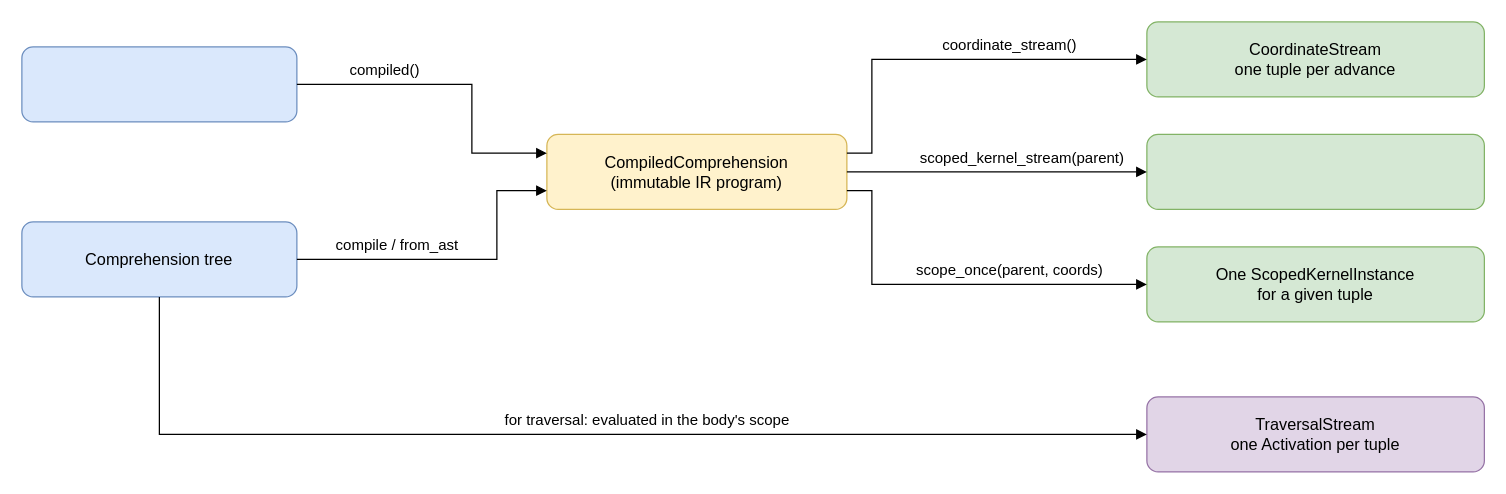
The diagram is 1506 pixels wide and 494 high, and some of its shapes have lost their labels. The shapes that lost their labels are listed below. From the top down, each one's centre as x and y in pixels, then its label:
At pixel 159 84: "StreamerValue on a producer wire".
At pixel 1315 171: "ScopedKernelStream one scoped kernel instance per advance".
